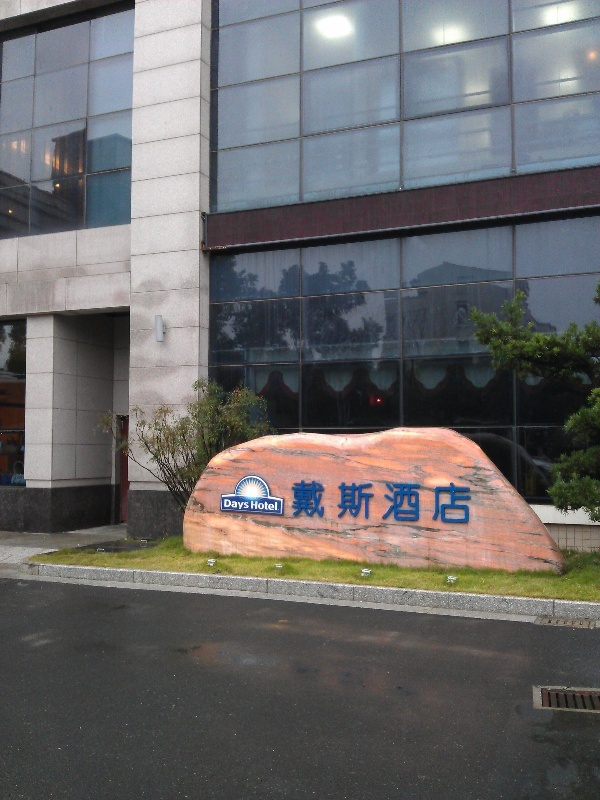text: (305, 475, 320, 526), (321, 475, 336, 526), (337, 475, 352, 526), (353, 475, 368, 526), (369, 475, 384, 526), (385, 475, 400, 526), (401, 475, 416, 526), (417, 475, 432, 526), (433, 475, 448, 526), (449, 475, 464, 526), (292, 475, 304, 526), (465, 475, 474, 526), (225, 499, 240, 511), (257, 500, 272, 512), (241, 499, 250, 511), (273, 500, 280, 512), (251, 500, 256, 512)
